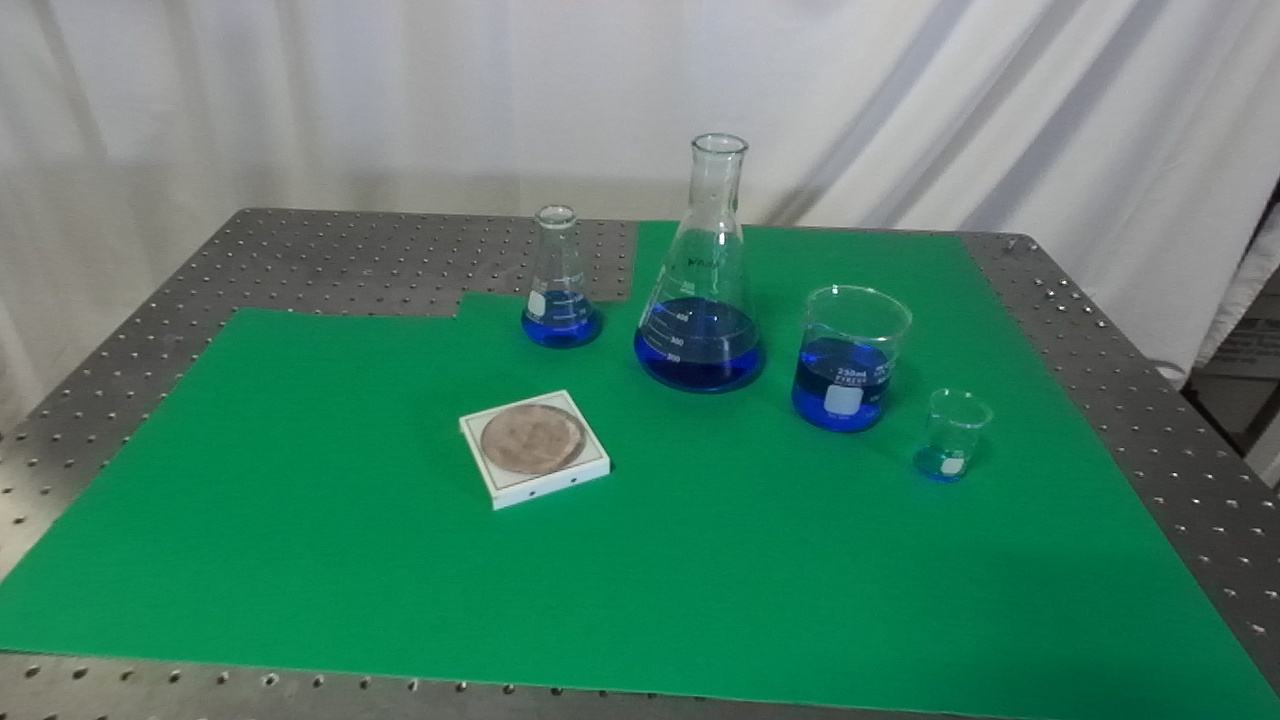glass: (630, 127, 769, 396), (788, 281, 914, 437), (514, 203, 603, 353), (908, 386, 996, 487)
plate: (451, 385, 616, 512)
